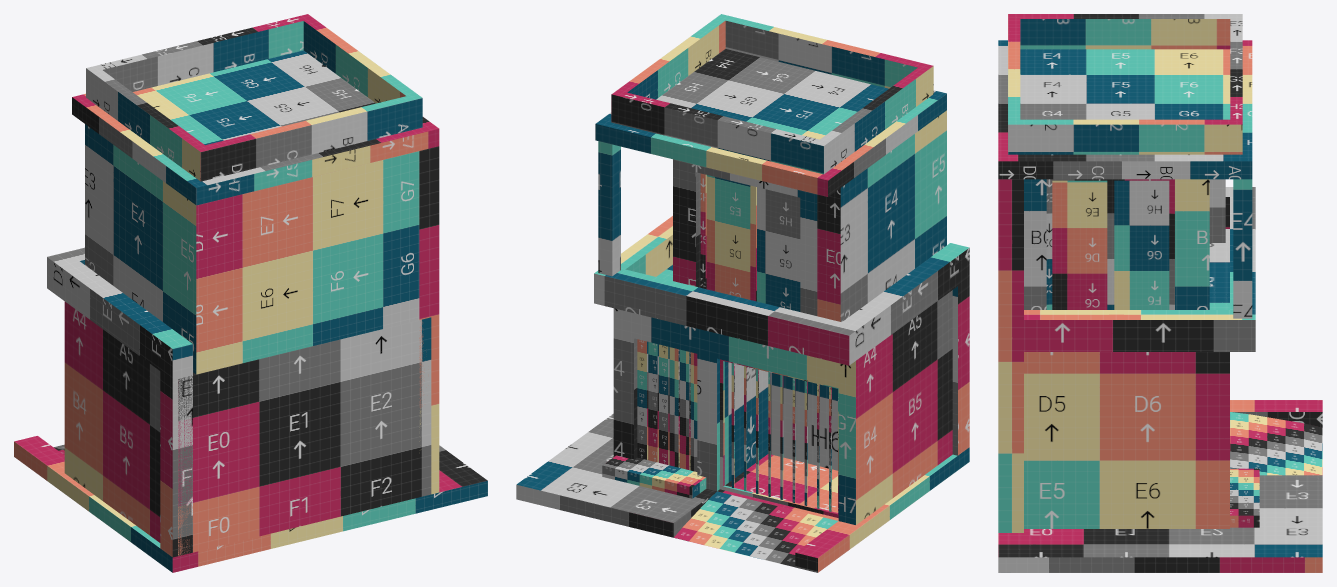
File: Casa3.glb
The picture shows the model from 3 angles, left to right: view 1: azimuth 30°, elevation 25°; view 2: azimuth 150°, elevation 25°; view 3: azimuth 270°, elevation 25°; orthographic projection. The views are drawn at different scales.
Parts seen in each view (by area): view 1: Cube.013, Cube.020, Cube.027, Cube.025, Cube.019, Cube.012; view 2: Cube.013, Cube.019, Cube.020, Cube.027, Cube.025, Cube.012, Cube.021, Cube.018, Cube.046, Cube.015, Cube.017; view 3: Cube.013, Cube.025, Cube.019, Cube.012, Cube.027, Cube.021, Cube.020, Cube.046, Cube.017.
Part boxes in pixels (x1,y1,x2,y2): Cube.013: (64,301,431,555); Cube.020: (85,124,419,374); Cube.027: (86,14,422,181); Cube.025: (72,50,439,205); Cube.019: (47,146,439,557); Cube.012: (14,436,487,572); Cube.013: (613,265,952,524); Cube.019: (594,141,969,455); Cube.020: (673,110,946,322); Cube.027: (611,14,933,174); Cube.025: (595,49,946,196); Cube.012: (516,413,969,572); Cube.021: (700,173,800,311); Cube.018: (637,339,697,471); Cube.046: (674,491,838,567); Cube.015: (719,359,838,517); Cube.017: (602,455,706,498); Cube.013: (1024,229,1229,528); Cube.025: (998,40,1252,179); Cube.019: (998,179,1255,532); Cube.012: (998,400,1322,572); Cube.027: (1008,14,1242,154); Cube.021: (1046,179,1174,309); Cube.020: (1024,179,1225,309); Cube.046: (1230,412,1322,475); Cube.017: (1230,468,1259,527).
Size of the model in its own units: 6.17 by 7.66 by 5.38.
Materials: 11 (11 with a texture image).
